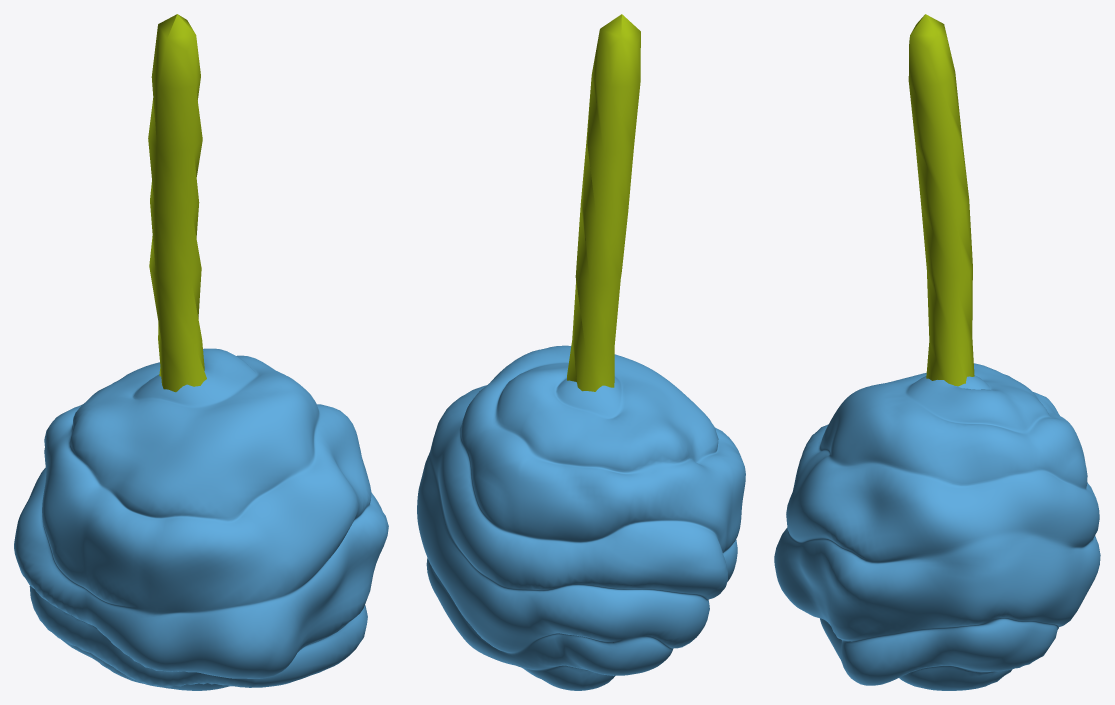
The model's file is upsideflower.glb.
3 renders of one model, left to right at view 1: azimuth 30°, elevation 25°; view 2: azimuth 150°, elevation 25°; view 3: azimuth 270°, elevation 25°, orthographic. The views are drawn at different scales.
Parts seen in each view (by area): view 1: upsideflower; view 2: upsideflower; view 3: upsideflower.
Boxes of the visible parts, <box> form: upsideflower: <box>14,14,388,690</box>; upsideflower: <box>417,14,745,690</box>; upsideflower: <box>774,14,1100,690</box>.
Size of the model in its own units: 3.02 by 6.27 by 2.89.
